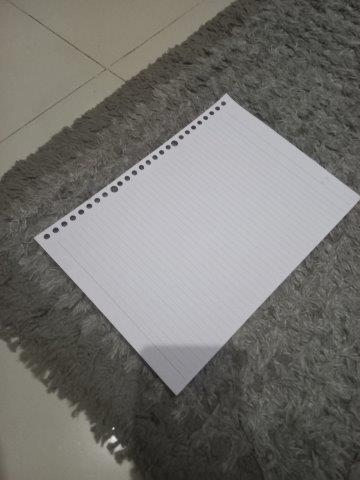kertas: (36, 94, 360, 393)
